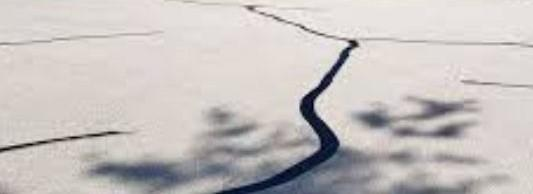crack: (180, 0, 362, 194), (0, 126, 136, 159), (0, 29, 168, 46), (461, 78, 533, 90)
